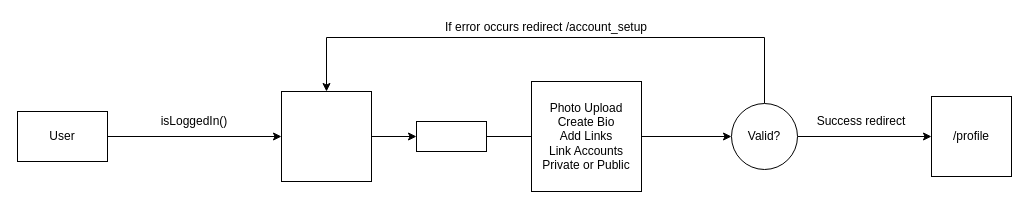
This 1029x209 diagram has some shape labels left out. The shapes that lost their labels are listed below. From the top down, each one's centre as x and y in pixels, then its label:
(326,136): /account_setup
(451,136): Includes
